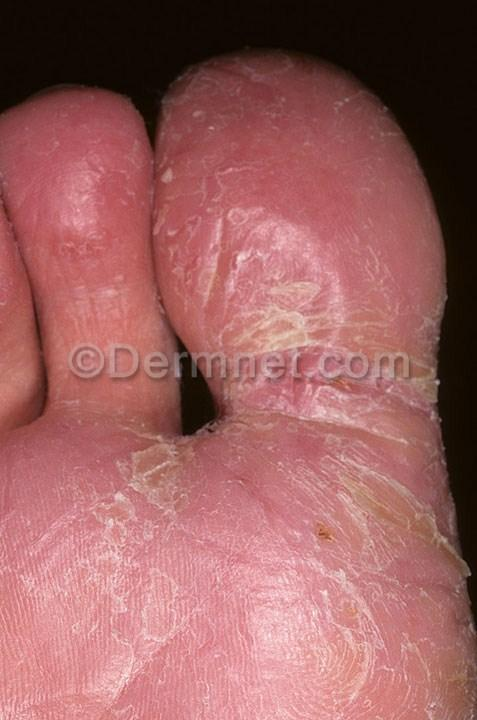Eczema: (189, 263, 453, 554), (0, 413, 219, 656), (193, 529, 448, 720), (178, 72, 364, 275), (5, 103, 167, 329)
